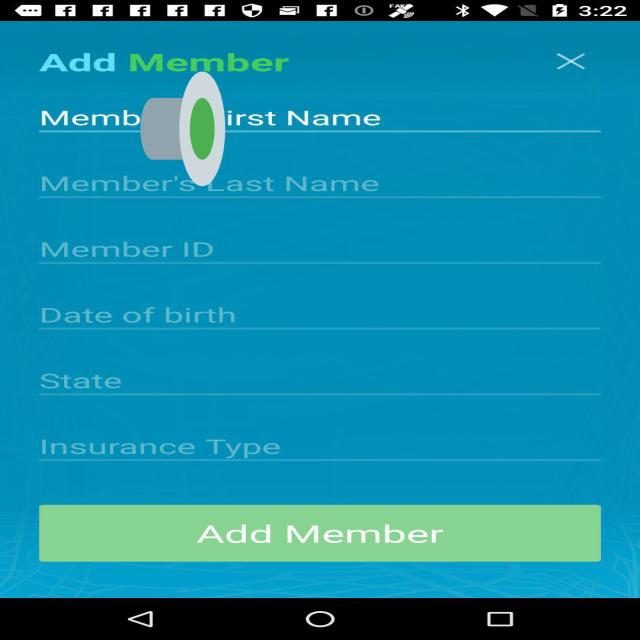social proof: (141, 23, 225, 235)
